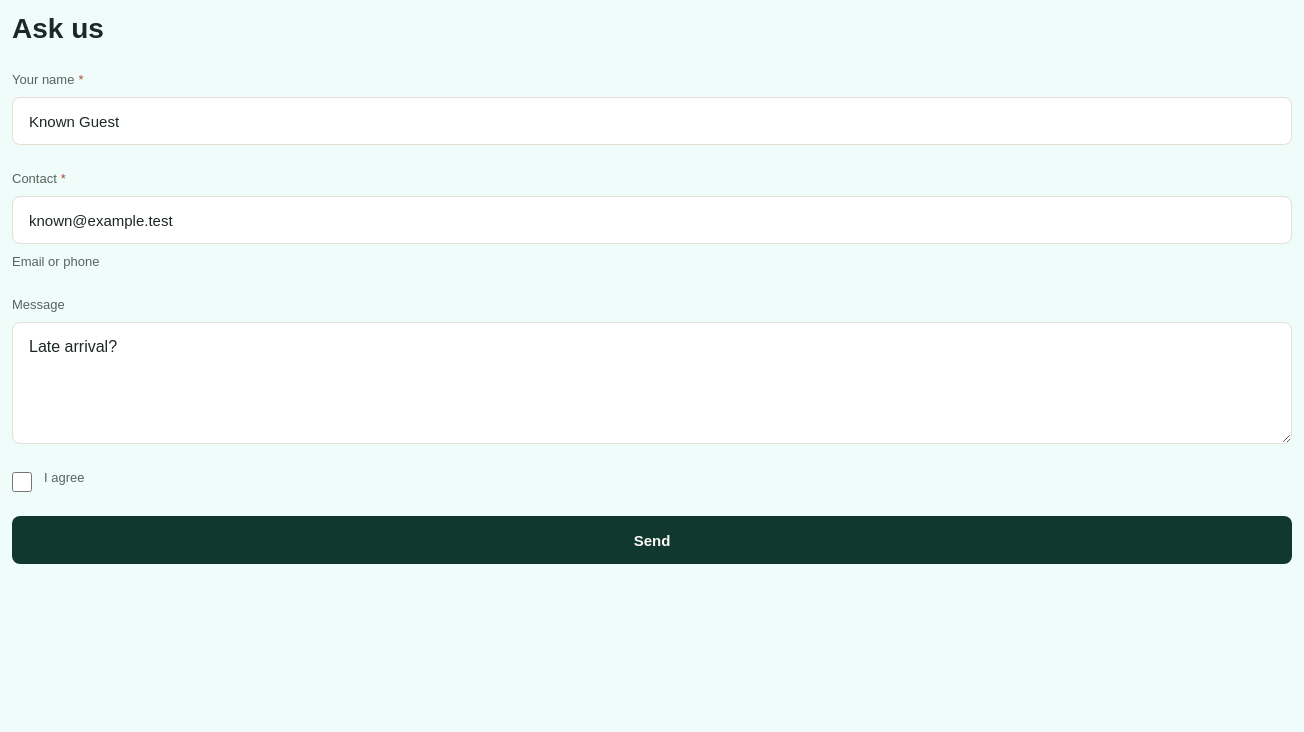
Test: inquiry acknowledgement retries › reuses the request ID after a lost response and preserves the question
The image size is (1304, 732).
Expected: the field labelled "Your name*" holds "Known Guest", [12, 97, 1292, 145]
Click the checkbox labelled "I agree": x=22, y=482 [12, 472, 32, 492]
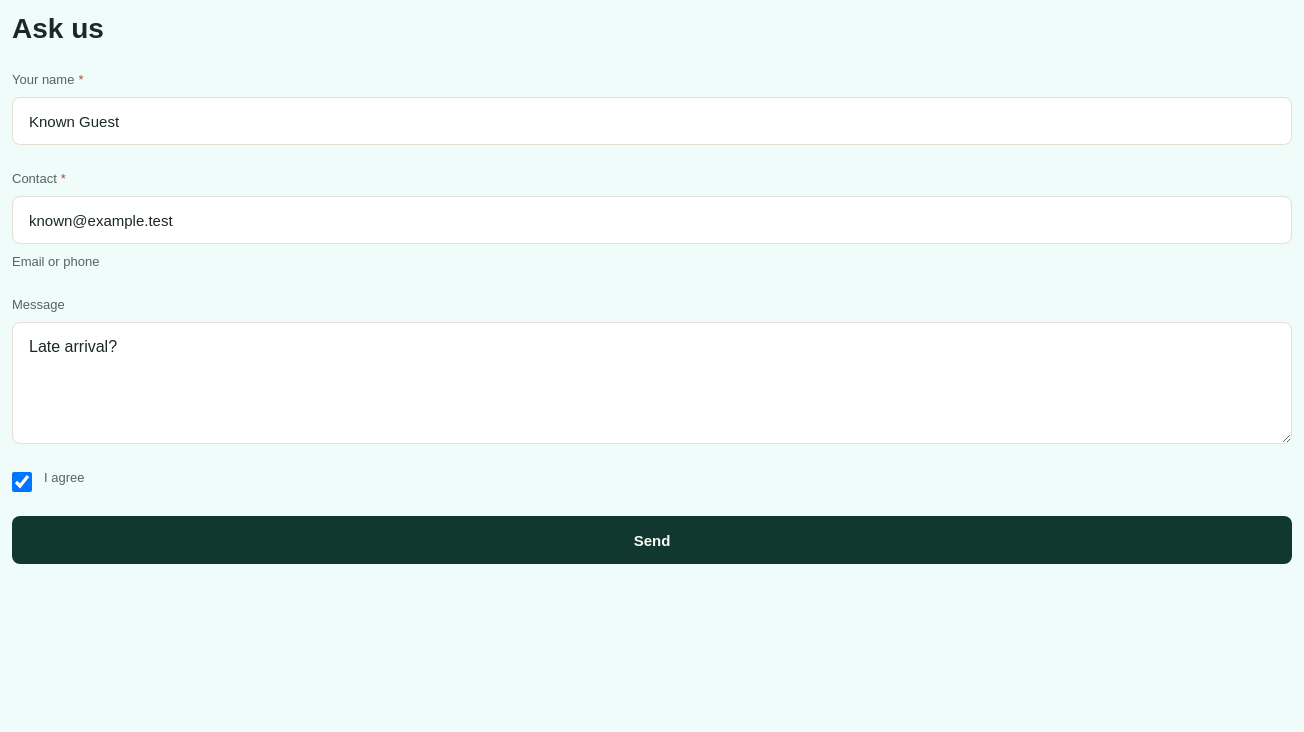
Click the button "Send": x=652, y=540 [12, 516, 1292, 564]
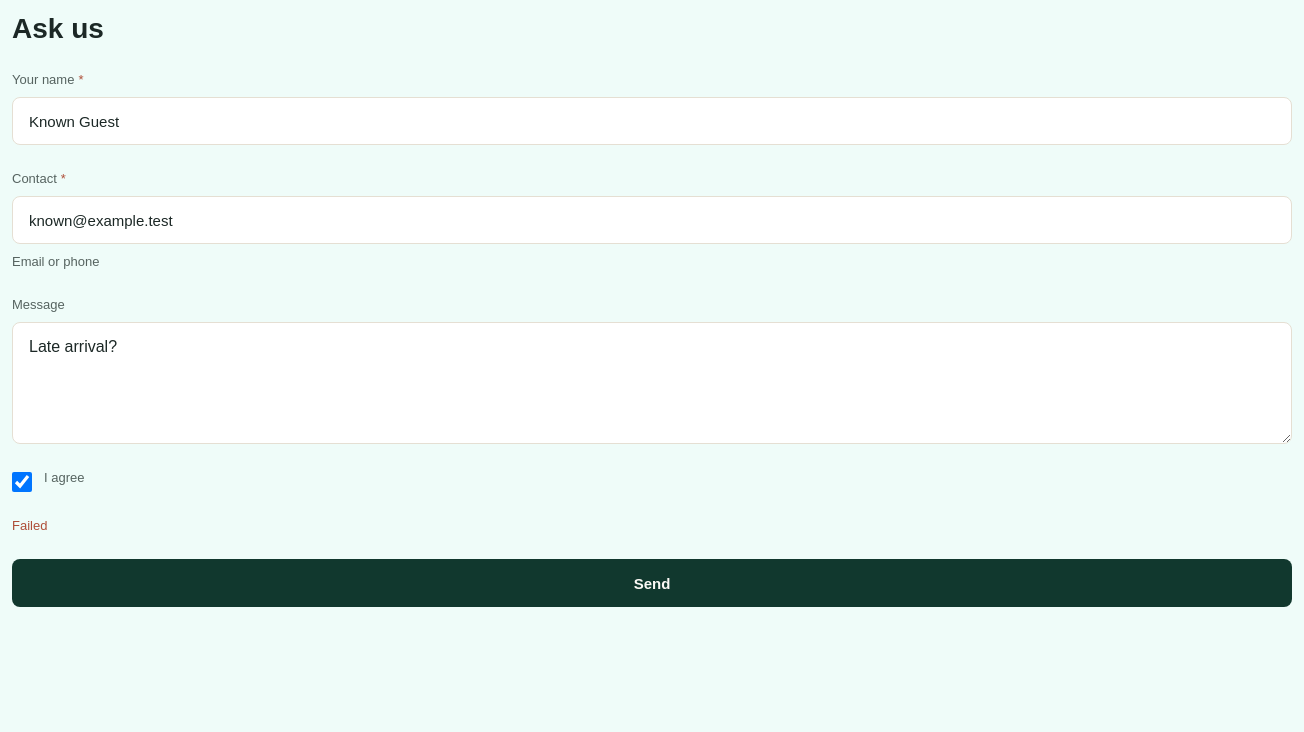
Expected: the message "Failed" is shown, [12, 518, 47, 533]
Click the button "Send": x=652, y=583 [12, 559, 1292, 607]
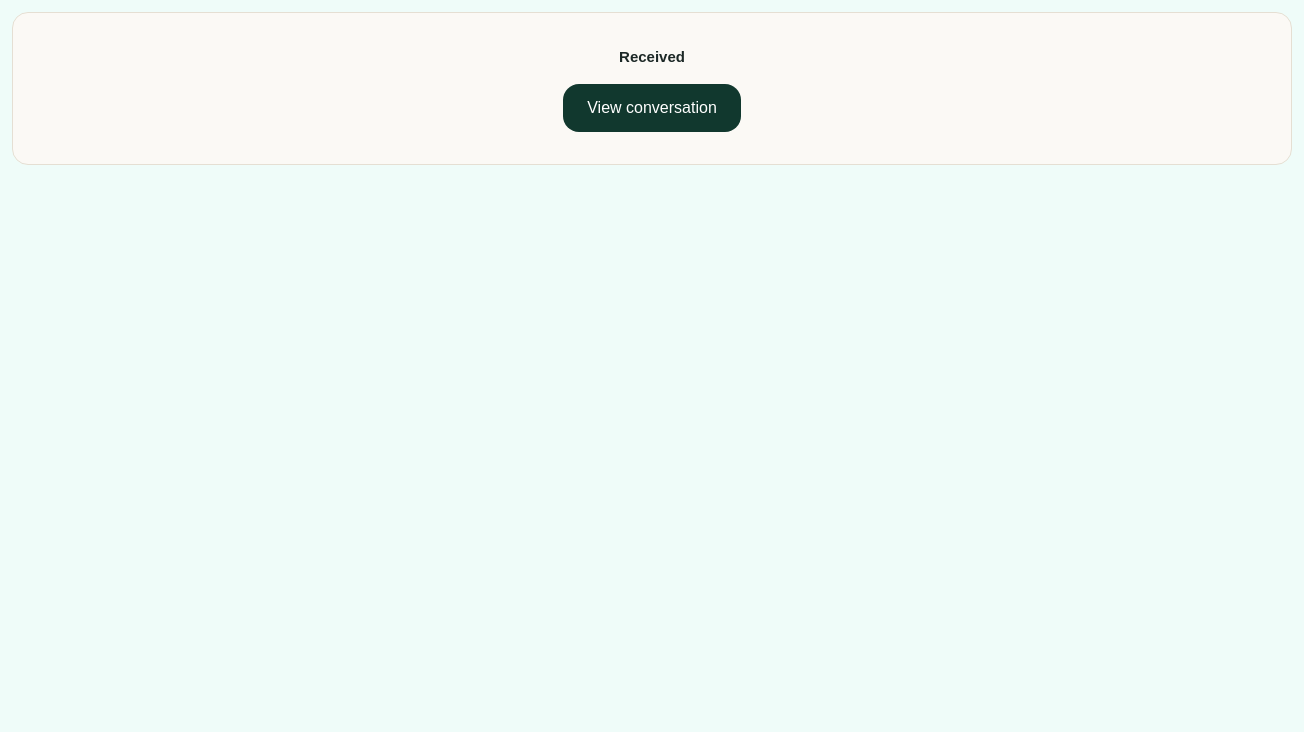
Expected: the link "View conversation" is shown, [563, 84, 741, 132]
